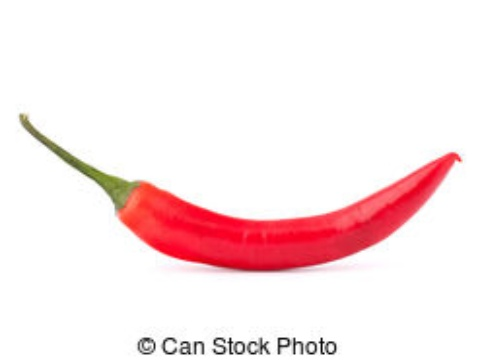Chilli: (15, 109, 476, 283)
